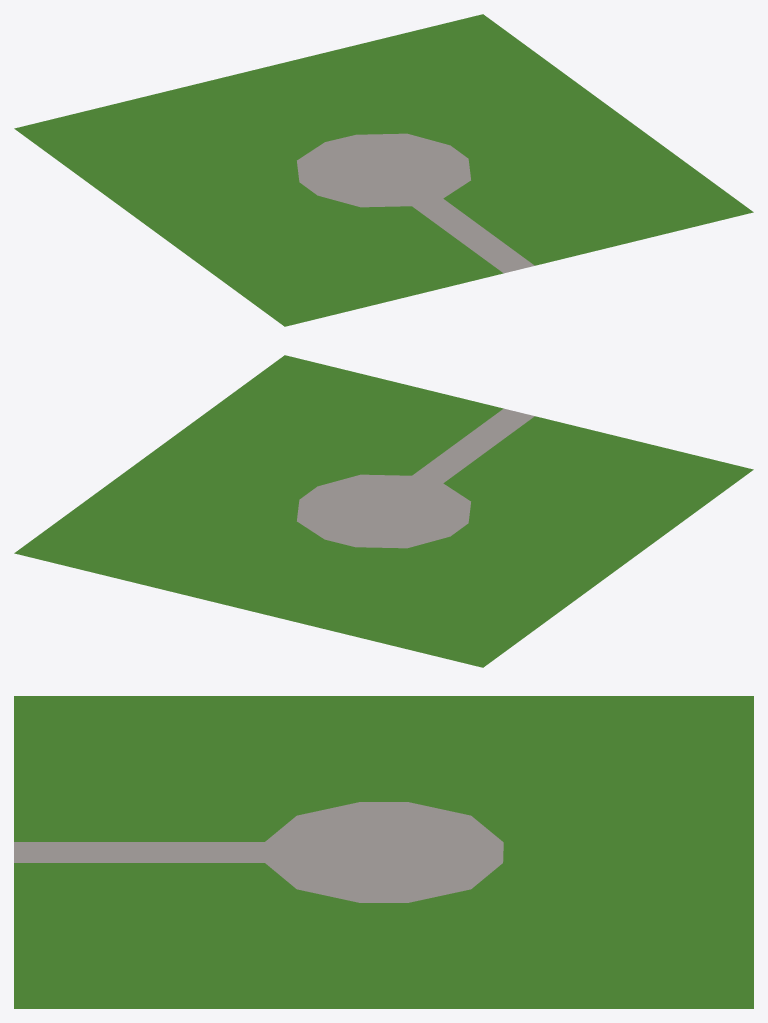
Rendered from tiles-nb_tile-sidewalk-end-nb.fbx.
The picture shows the model from 3 angles, top to bottom: view 1: azimuth 30°, elevation 25°; view 2: azimuth 150°, elevation 25°; view 3: azimuth 270°, elevation 25°; orthographic projection. The views are drawn at different scales.
Visible parts, largest first — view 1: tiles_nb_tile_sidewalk_end_nb; view 2: tiles_nb_tile_sidewalk_end_nb; view 3: tiles_nb_tile_sidewalk_end_nb.
Boxes of the visible parts, <box> form: tiles_nb_tile_sidewalk_end_nb: <box>14,14,753,326</box>; tiles_nb_tile_sidewalk_end_nb: <box>14,355,753,667</box>; tiles_nb_tile_sidewalk_end_nb: <box>14,696,753,1008</box>.
Size of the model in its own units: 200 by 5.25e-05 by 200.
